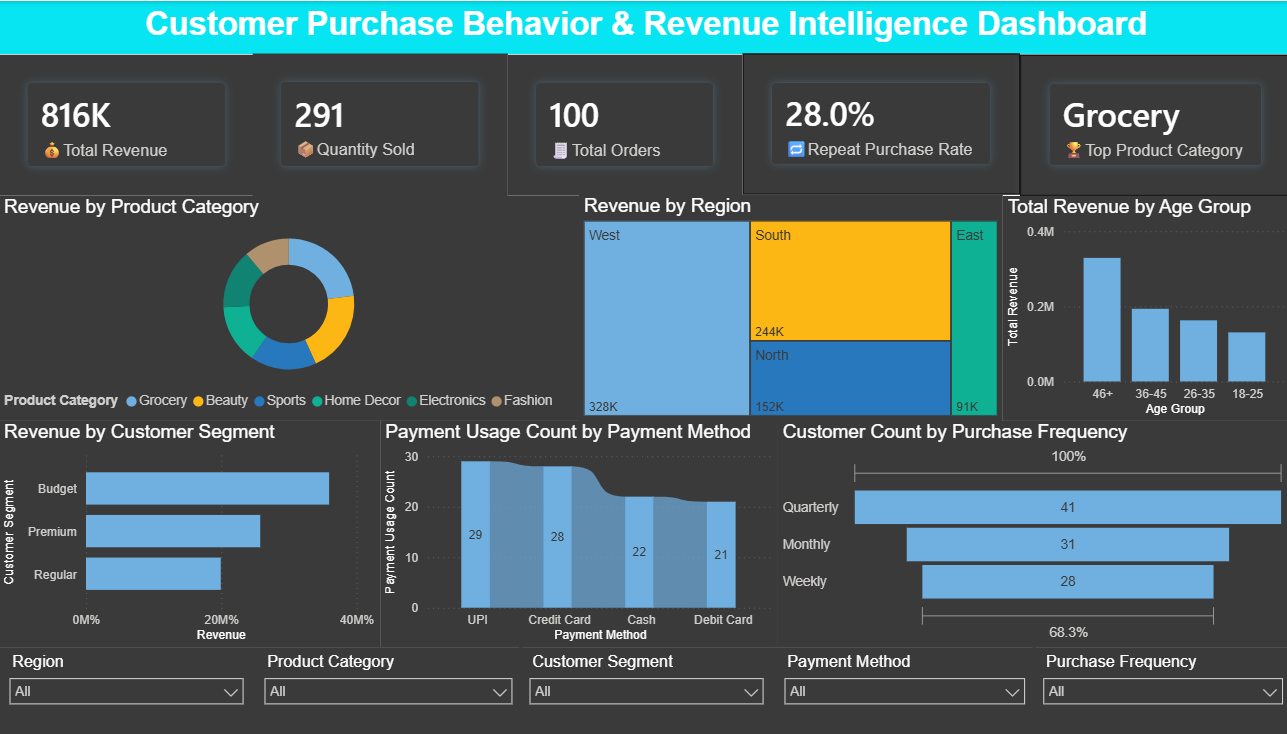

The page's visual inventory and layout, read from the dashboard file:
{"tool":"powerbi","page":{"name":"Page 1","canvas":[1280,720],"ordinal":0},"visuals":[{"type":"textbox","box":[9.6,0,1270.7,52.1],"z":0},{"type":"cardVisual","fields":{"Data":["Customer_Purchase_Data.Repeat Purchase Rate"]},"box":[739.9,51.5,272.4,138.7],"z":1000},{"type":"cardVisual","fields":{"Data":["Customer_Purchase_Data.Top Product Category"]},"box":[1012.3,52.8,266.3,138.7],"z":2000},{"type":"slicer","fields":{"Values":["Customer_Purchase_Data.Region"]},"box":[9.8,634.4,250,85.9],"z":3000},{"type":"slicer","fields":{"Values":["Customer_Purchase_Data.Product Category"]},"box":[260.1,634.4,263.8,85.9],"z":4000},{"type":"slicer","fields":{"Values":["Customer_Purchase_Data.Payment Method"]},"box":[770.6,634.4,256.4,85.9],"z":5000},{"type":"slicer","fields":{"Values":["Customer_Purchase_Data.Customer Segment"]},"box":[520.2,634.4,250.3,85.9],"z":6000},{"type":"slicer","fields":{"Values":["Customer_Purchase_Data.Purchase Frequency"]},"box":[1024.5,634.4,255.2,85.9],"z":7000},{"type":"cardVisual","fields":{"Data":["Customer_Purchase_Data.Total Revenue"]},"box":[9.8,52.8,250.3,138.7],"z":8000},{"type":"cardVisual","fields":{"Data":["Customer_Purchase_Data.Quantity Sold"]},"box":[258.9,51.5,250.3,139.9],"z":9000},{"type":"cardVisual","fields":{"Data":["Customer_Purchase_Data.Total Orders"]},"box":[509.2,52.8,230.7,138.7],"z":9001},{"type":"donutChart","fields":{"Category":["Customer_Purchase_Data.Product Category"],"Y":["Customer_Purchase_Data.Total Revenue"]},"box":[9.8,191.4,569.3,220.9],"z":9002},{"type":"treemap","fields":{"Values":["Customer_Purchase_Data.Revenue by Region"],"Group":["Customer_Purchase_Data.Region"]},"box":[579.1,190.2,416,222.1],"z":9004},{"type":"clusteredBarChart","fields":{"Category":["Customer_Purchase_Data.Customer Segment"],"Y":["Customer_Purchase_Data.Revenue by Region"]},"box":[9.8,412.3,374.2,222.1],"z":9005},{"type":"ribbonChart","fields":{"Category":["Customer_Purchase_Data.Payment Method"],"Y":["Customer_Purchase_Data.Payment Usage Count"]},"box":[384.1,412.3,390.2,222.1],"z":9006},{"type":"funnel","fields":{"Y":["Customer_Purchase_Data.Customer Count"],"Category":["Customer_Purchase_Data.Purchase Frequency"]},"box":[774.2,412.3,504.3,222.1],"z":9007},{"type":"clusteredColumnChart","fields":{"Category":["Customer_Purchase_Data.Age Group"],"Y":["Customer_Purchase_Data.Total Revenue"]},"box":[995.1,191.4,283.4,220.9],"z":9008}]}

Visuals, with their boxes in screenshot pixels (x1, y1, x2, y2), scaled from the page's 1280x720 canvas onto the 1287x734 screenshot:
textbox: crop(10, 0, 1286, 53)
cardVisual - Customer_Purchase_Data.Repeat Purchase Rate: crop(744, 53, 1018, 194)
cardVisual - Customer_Purchase_Data.Top Product Category: crop(1018, 54, 1286, 195)
slicer - Customer_Purchase_Data.Region: crop(10, 647, 261, 733)
slicer - Customer_Purchase_Data.Product Category: crop(262, 647, 527, 733)
slicer - Customer_Purchase_Data.Payment Method: crop(775, 647, 1033, 733)
slicer - Customer_Purchase_Data.Customer Segment: crop(523, 647, 775, 733)
slicer - Customer_Purchase_Data.Purchase Frequency: crop(1030, 647, 1286, 733)
cardVisual - Customer_Purchase_Data.Total Revenue: crop(10, 54, 262, 195)
cardVisual - Customer_Purchase_Data.Quantity Sold: crop(260, 53, 512, 195)
cardVisual - Customer_Purchase_Data.Total Orders: crop(512, 54, 744, 195)
donutChart - Customer_Purchase_Data.Product Category x Customer_Purchase_Data.Total Revenue: crop(10, 195, 582, 420)
treemap - Customer_Purchase_Data.Revenue by Region x Customer_Purchase_Data.Region: crop(582, 194, 1001, 420)
clusteredBarChart - Customer_Purchase_Data.Customer Segment x Customer_Purchase_Data.Revenue by Region: crop(10, 420, 386, 647)
ribbonChart - Customer_Purchase_Data.Payment Method x Customer_Purchase_Data.Payment Usage Count: crop(386, 420, 779, 647)
funnel - Customer_Purchase_Data.Customer Count x Customer_Purchase_Data.Purchase Frequency: crop(778, 420, 1285, 647)
clusteredColumnChart - Customer_Purchase_Data.Age Group x Customer_Purchase_Data.Total Revenue: crop(1001, 195, 1285, 420)
